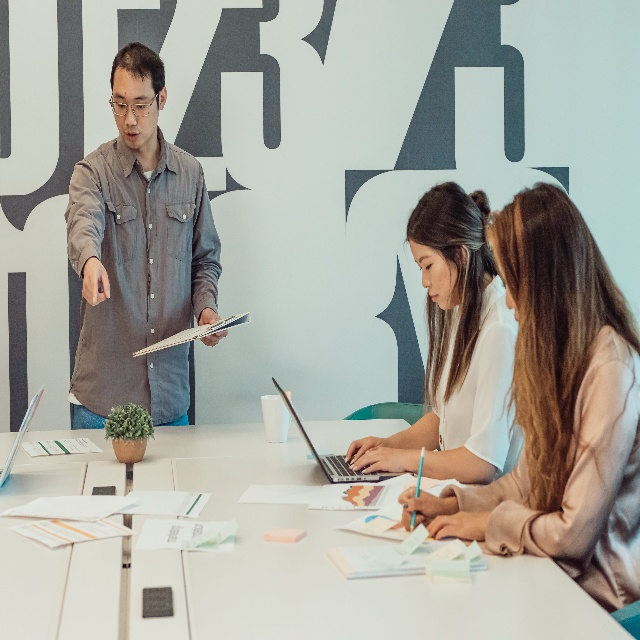Gafas: (109, 90, 159, 117)
Sin_guantes: (398, 485, 447, 533), (426, 508, 492, 541), (349, 445, 405, 476), (82, 257, 111, 307), (344, 436, 388, 465), (198, 308, 228, 347)
